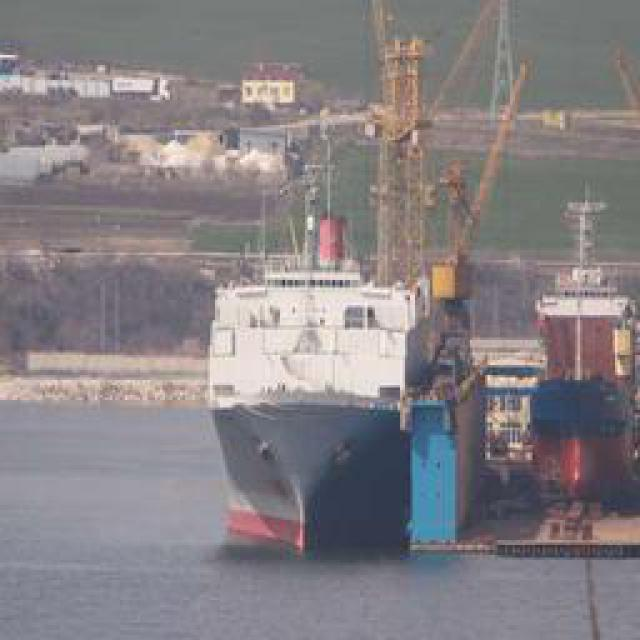Ship: (209, 119, 492, 562)
